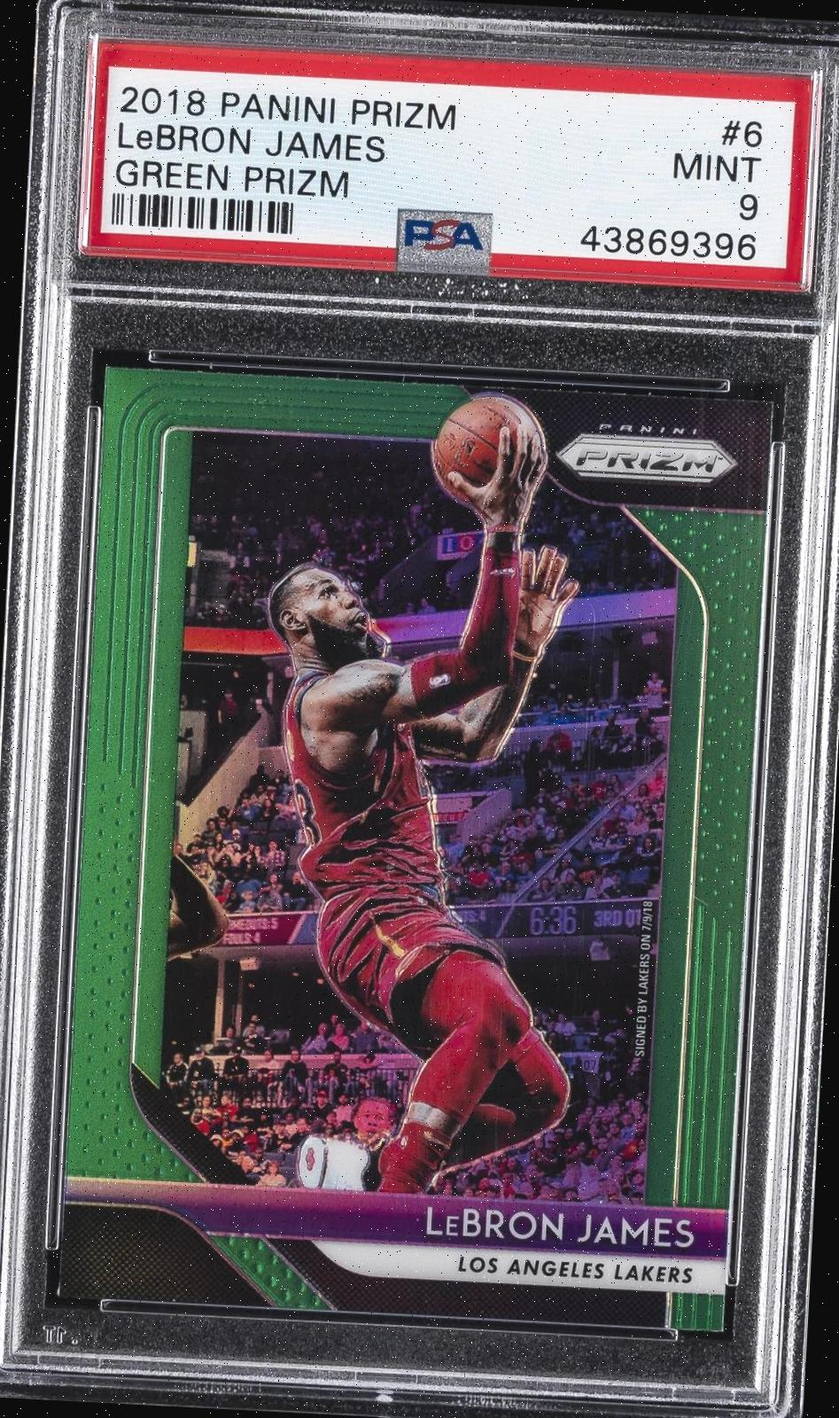card-2UtV: (54, 362, 774, 1334)
